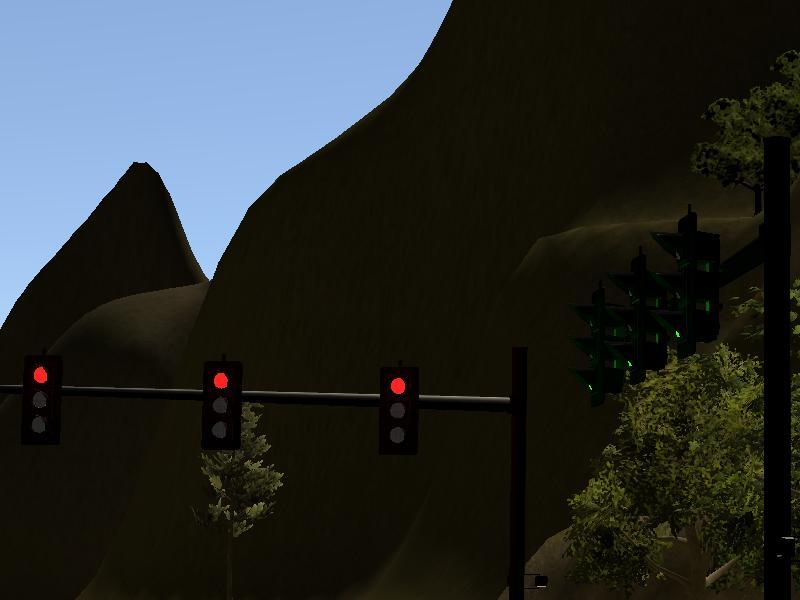Red: (199, 358, 240, 450), (376, 362, 417, 454), (21, 355, 62, 447)
